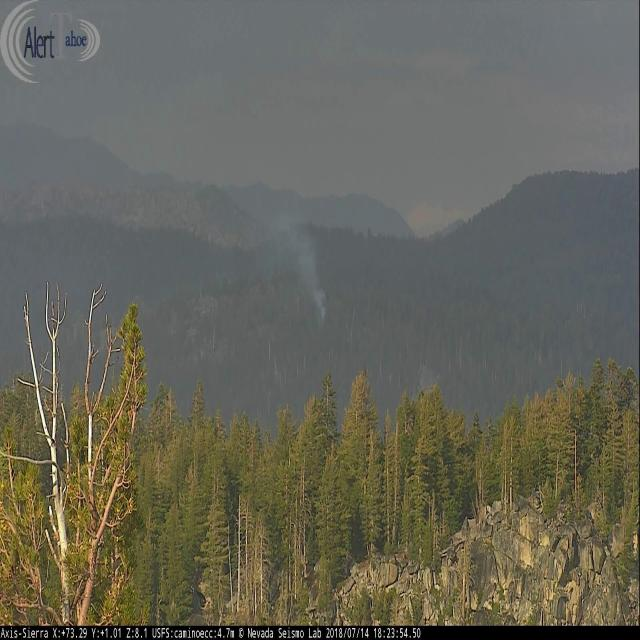smoke: (222, 160, 331, 324)
